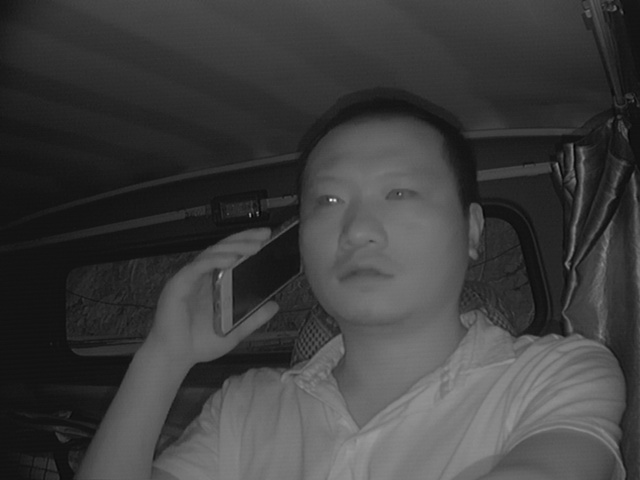hand: (153, 230, 278, 366)
